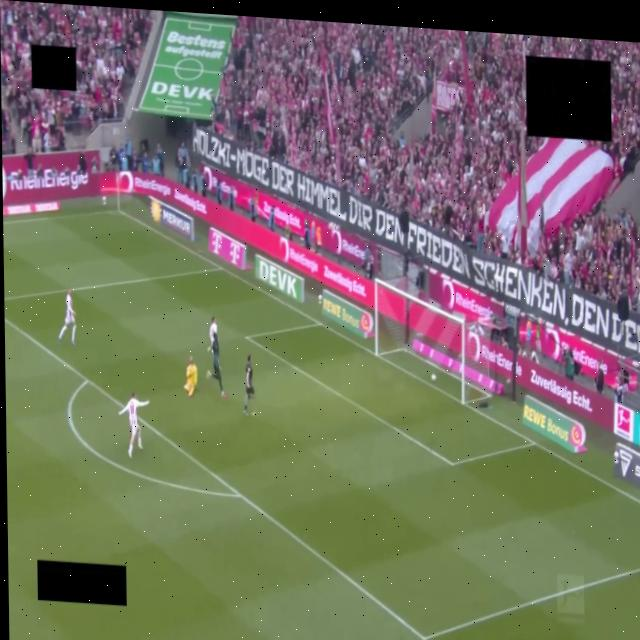ball: (431, 375, 436, 381)
player: (119, 392, 149, 457), (207, 317, 227, 398), (58, 289, 76, 345), (244, 354, 254, 414), (185, 356, 197, 396)
